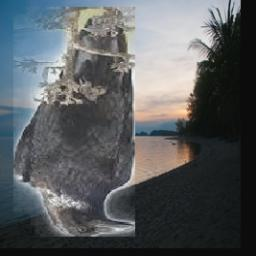Crow: (14, 8, 136, 238)
